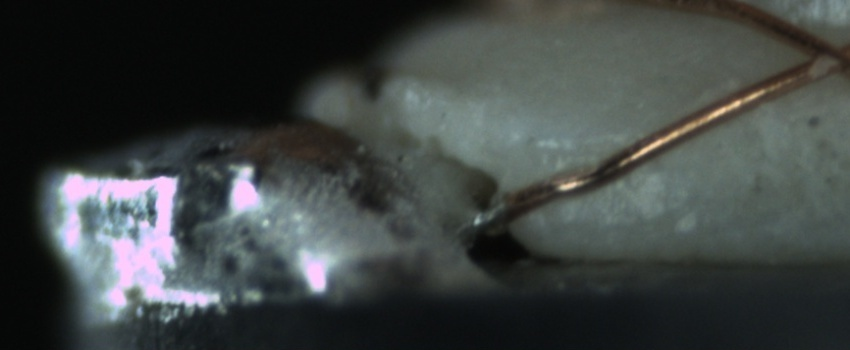CL: (781, 25, 850, 87)
DL: (531, 124, 667, 178)
